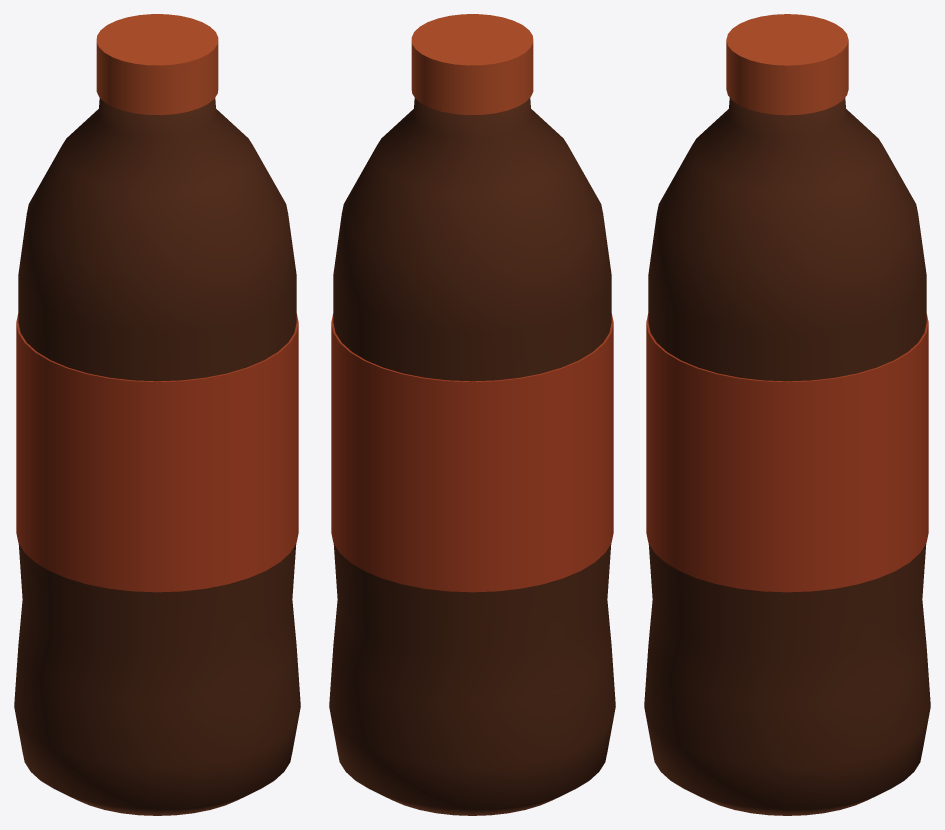
File: soda_bottle.glb
The picture shows the model from 3 angles, left to right: view 1: azimuth 30°, elevation 25°; view 2: azimuth 150°, elevation 25°; view 3: azimuth 270°, elevation 25°; orthographic projection.
Parts seen in each view (by area): view 1: soda_bottle; view 2: soda_bottle; view 3: soda_bottle.
Part boxes in pixels (bbox=[...]): soda_bottle: bbox=[14, 14, 300, 815]; soda_bottle: bbox=[329, 14, 615, 815]; soda_bottle: bbox=[644, 14, 930, 815].
Bounding box in the file's own units: 0.068 × 0.1915 × 0.068.
